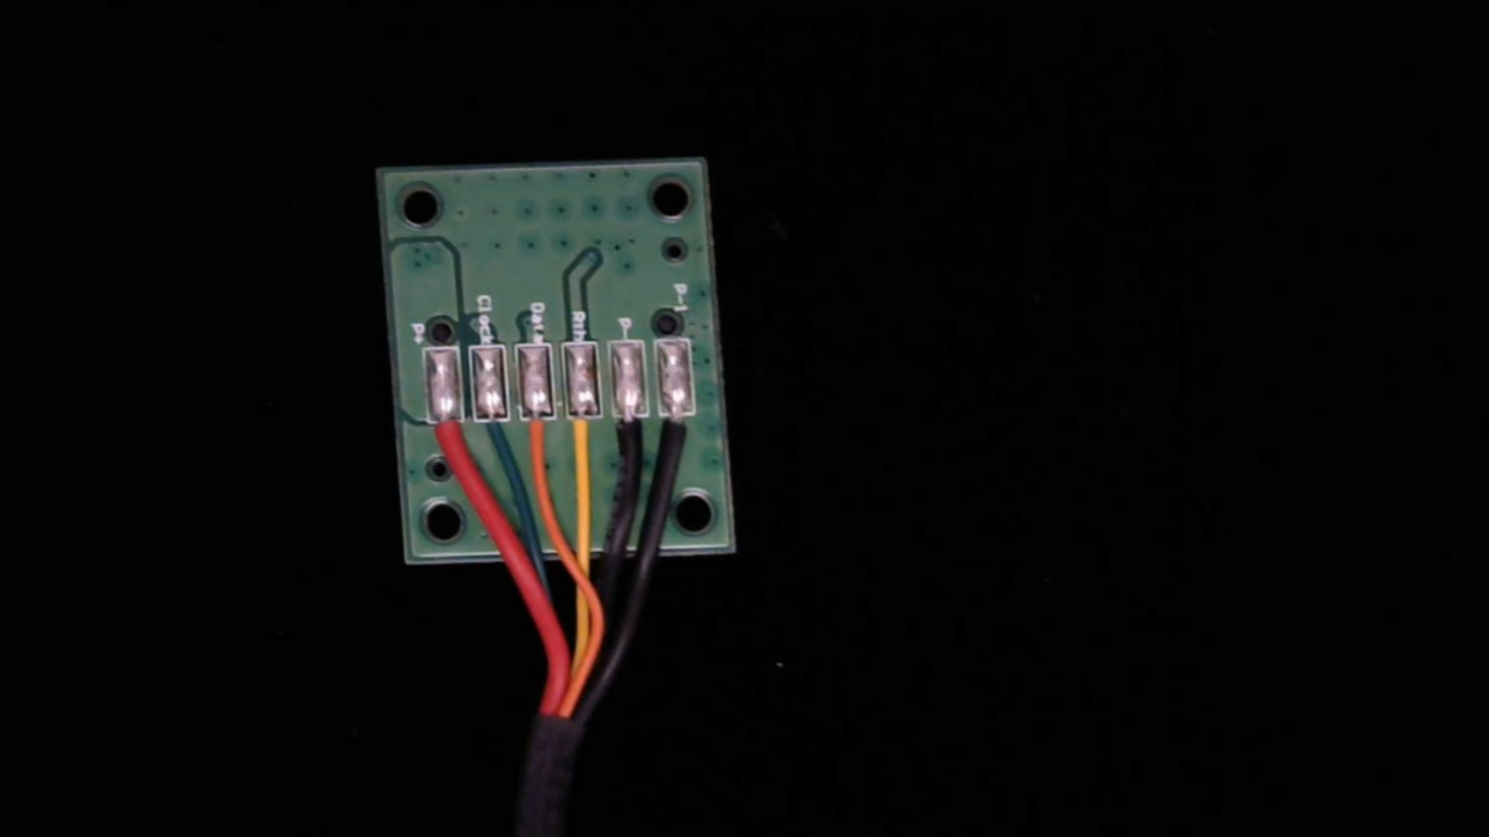Black: (613, 395, 648, 473)
Black1: (659, 394, 697, 466)
Green: (471, 397, 509, 475)
Orange: (518, 396, 553, 473)
Red: (426, 399, 470, 483)
Yellow: (565, 396, 604, 472)
